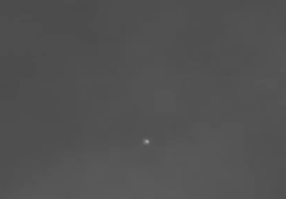Target: (144, 140, 148, 143)
